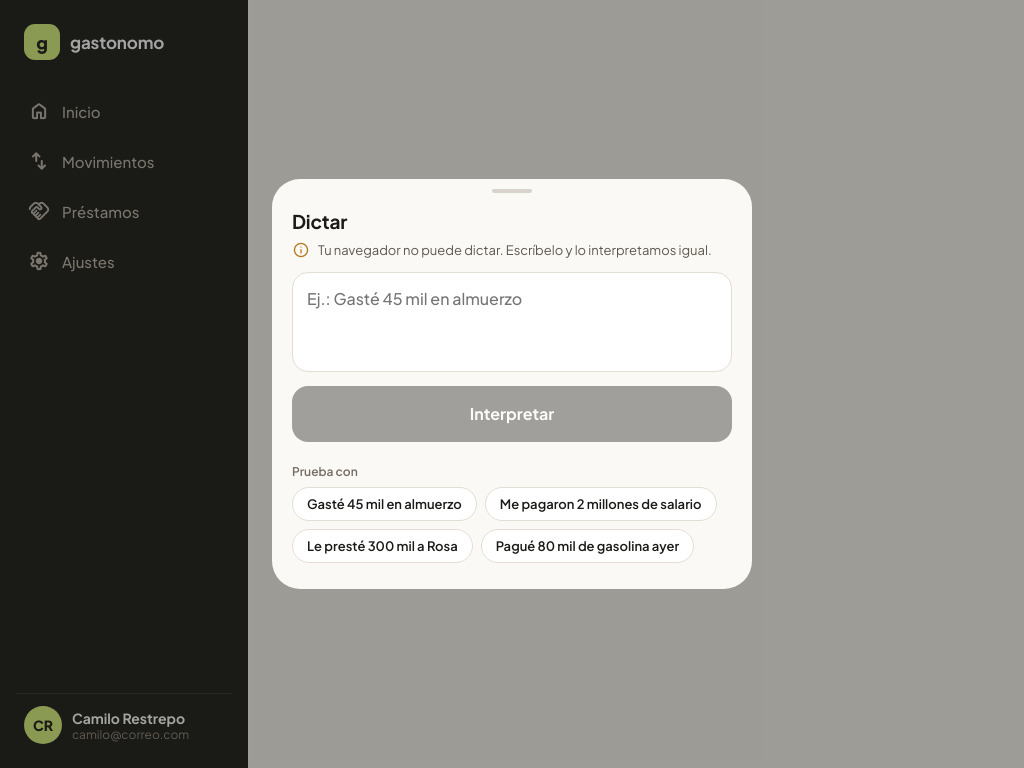
App › editar un dictado abre el formulario relleno y deja de estar el modal
Type "Gasté 45 mil en almuerzo" into the text box named "Lo que quieres registrar".
click(512, 322); type("Gasté 45 mil en almuerzo")  # box [292, 272, 732, 372]
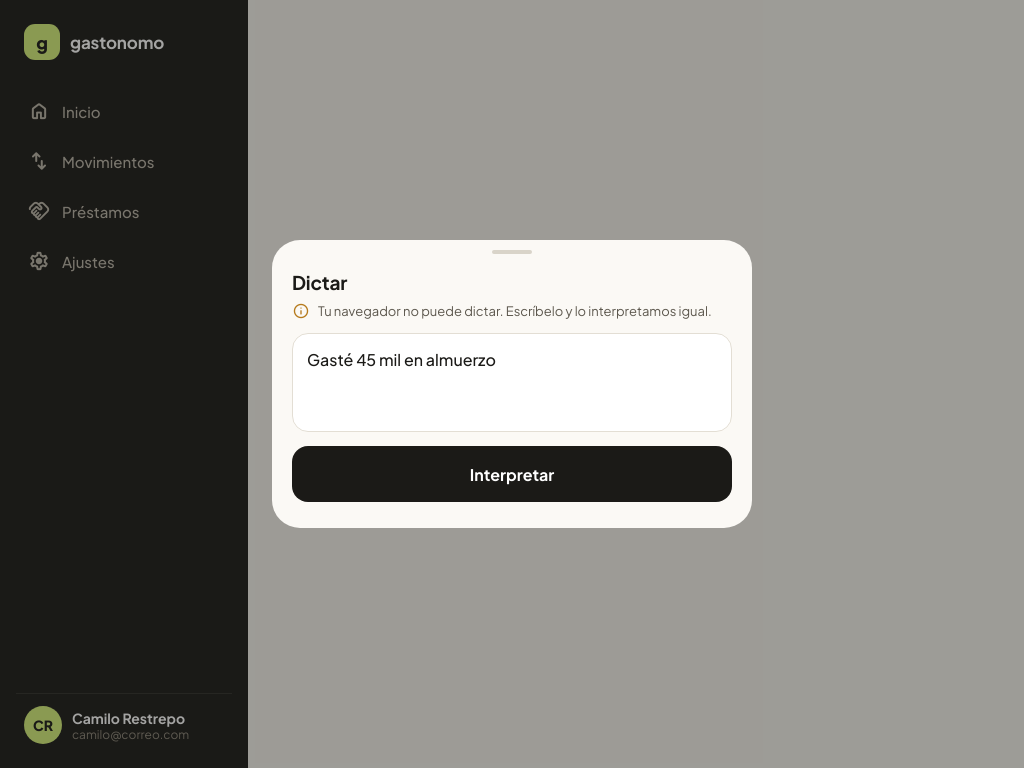
Click the button "Interpretar".
click(512, 474)  # box [292, 446, 732, 502]
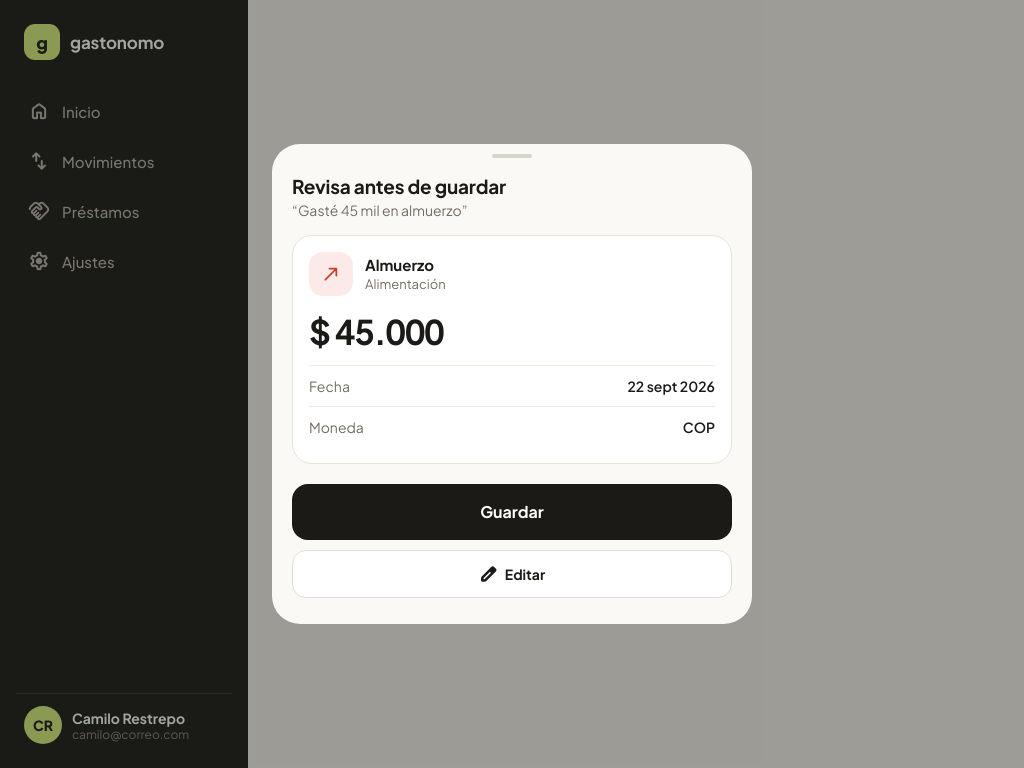
Click the button "Editar".
click(512, 574)  # box [292, 550, 732, 598]
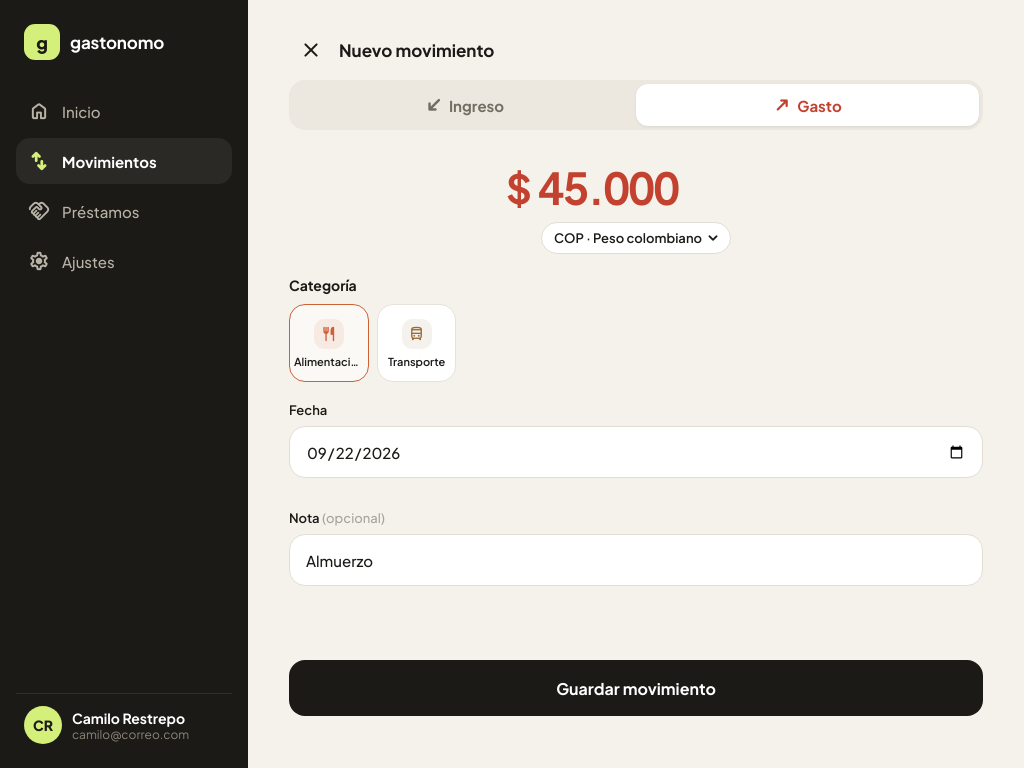
Expected: the heading "Nuevo movimiento" is shown, [339, 39, 494, 61]
Expected: the heading "Revisa antes de guardar" is gone
Expected: the field named "Importe" holds "45.000", [536, 158, 766, 216]
